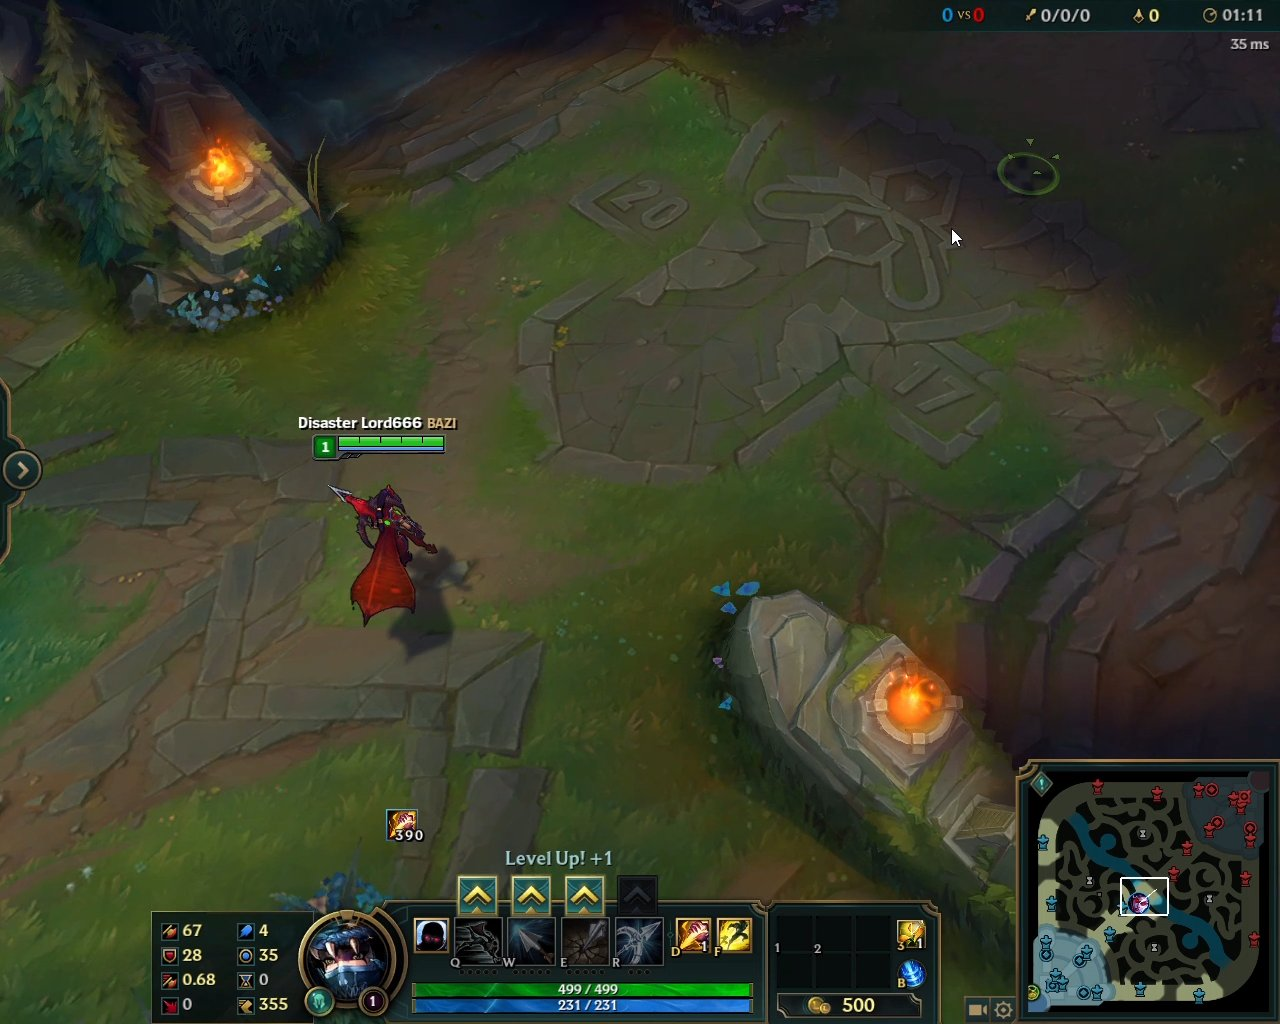Vayne: (320, 478, 451, 638)
